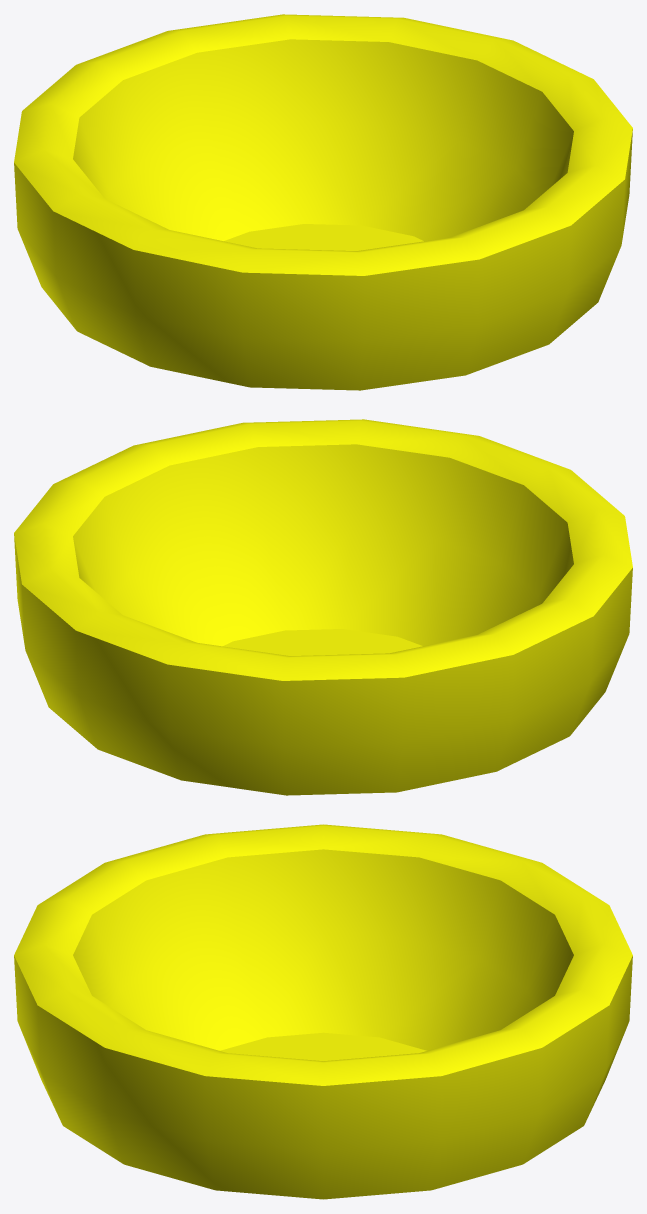
File: bowl.gltf
3 views of the same model, one above another, from view 1: azimuth 30°, elevation 25°; view 2: azimuth 150°, elevation 25°; view 3: azimuth 270°, elevation 25° (orthographic).
Parts seen in each view (by area): view 1: bowl; view 2: bowl; view 3: bowl.
Boxes of the visible parts, x1,y1,x2,y2 form: bowl: [14, 14, 632, 390]; bowl: [14, 419, 632, 795]; bowl: [14, 824, 632, 1199].
Size of the model in its own units: 0.95 by 0.3 by 0.95.
1 material, 1 textured.
